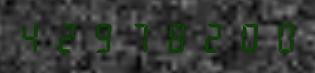eight: (157, 20, 191, 53)
four: (17, 20, 51, 53)
nine: (87, 20, 121, 53)
seven: (122, 20, 156, 53)
two: (52, 20, 86, 53), (192, 20, 226, 53)
zero: (227, 20, 261, 53), (262, 20, 296, 53)
